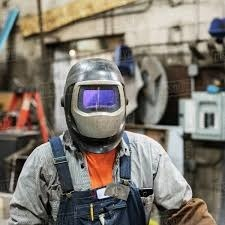person without safety: (2, 55, 223, 225)
